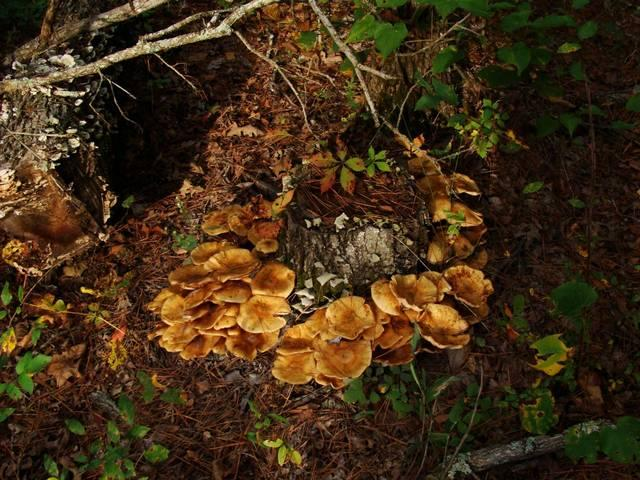Edible Mushroom: (146, 238, 295, 362), (370, 265, 495, 364), (404, 148, 491, 266), (274, 293, 375, 392)
